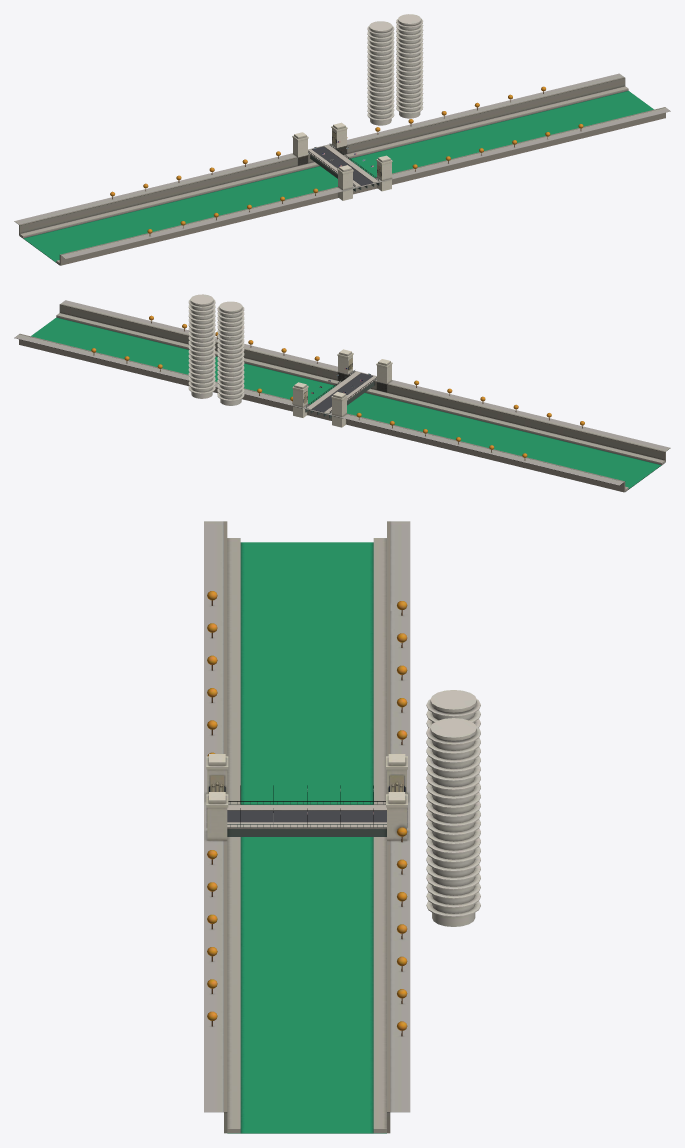
The model's file is puente_dusable.glb.
3 views of the same model, one above another, from view 1: azimuth 30°, elevation 25°; view 2: azimuth 150°, elevation 25°; view 3: azimuth 270°, elevation 25° (orthographic). The views are drawn at different scales.
Parts seen in each view (by area): view 1: puente_dusable; view 2: puente_dusable; view 3: puente_dusable.
Boxes of the visible parts, box(x1,y1,x2,y2) form: puente_dusable: box(14, 14, 670, 265); puente_dusable: box(14, 294, 670, 492); puente_dusable: box(204, 521, 480, 1133).
Size of the model in its own units: 420 by 70.2 by 83.2.
Materials: 1 (1 with a texture image).
